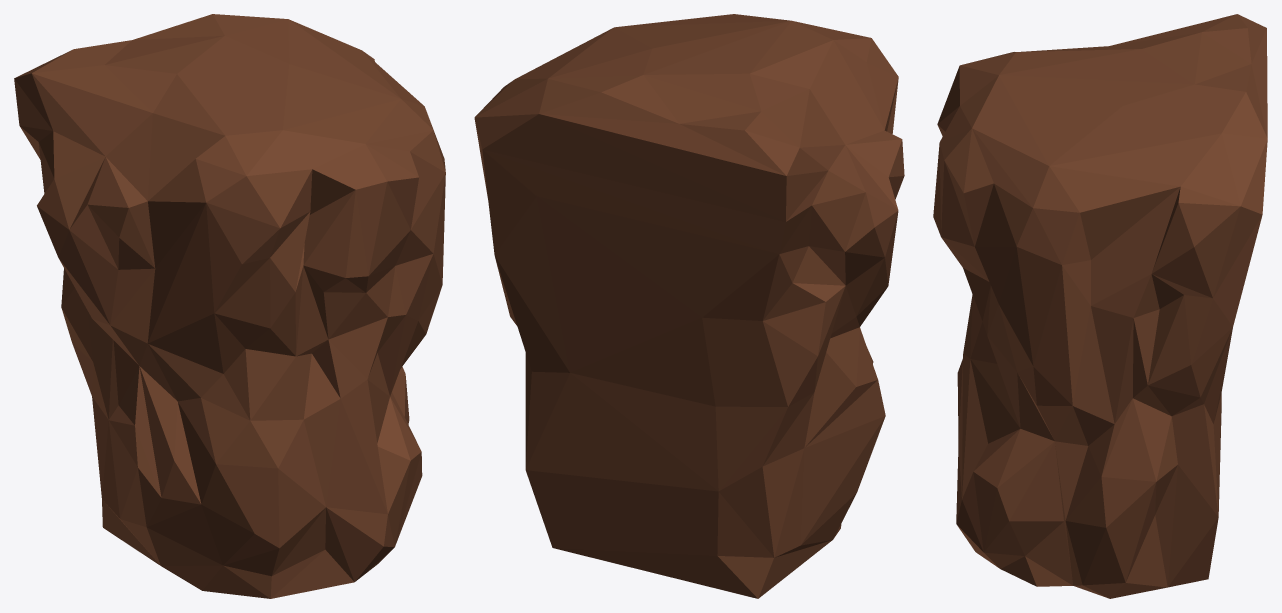
The model's file is SM_cliff_03.fbx.
3 views of the same model, side by side, from view 1: azimuth 30°, elevation 25°; view 2: azimuth 150°, elevation 25°; view 3: azimuth 270°, elevation 25° (orthographic). The views are drawn at different scales.
Parts seen in each view (by area): view 1: cliff_03; view 2: cliff_03; view 3: cliff_03.
Boxes of the visible parts, bbox=[...] form: cliff_03: bbox=[14, 14, 445, 598]; cliff_03: bbox=[474, 14, 904, 598]; cliff_03: bbox=[933, 14, 1267, 598].
Size of the model in its own units: 1472 by 1902 by 1221.
